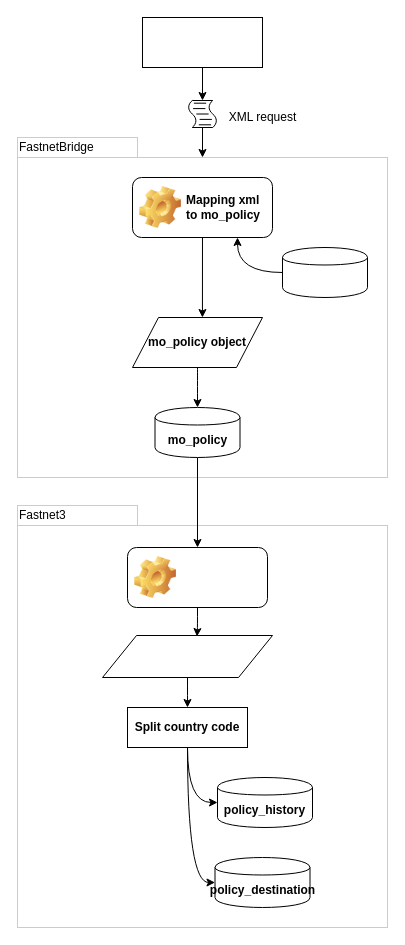
The diagram is 405 pixels wide and 945 high, and some of its shapes have lost their labels. Each missing label, with the centre of its shape:
Check in policy: [197,577]
eMargin: [202,42]
mapping_rule: [325,272]
mo_policy with multi destination: [187,656]
